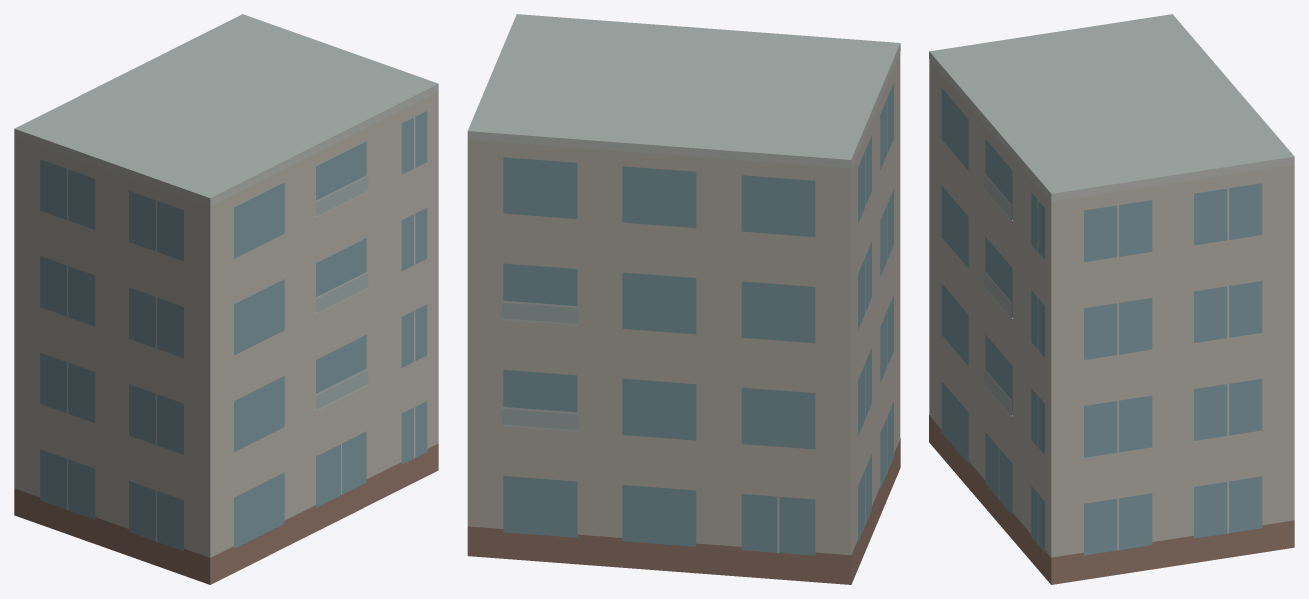
Rendered from residential-af7c3b1c-fa95-405c-bc4c-32a70b7470c2.glb.
The picture shows the model from 3 angles, left to right: view 1: azimuth 30°, elevation 25°; view 2: azimuth 150°, elevation 25°; view 3: azimuth 270°, elevation 25°; orthographic projection. The views are drawn at different scales.
Visible parts, largest first — view 1: residential-af7c3b1c-fa95-405c-bc4c-32a70b7470c2.tmp; view 2: residential-af7c3b1c-fa95-405c-bc4c-32a70b7470c2.tmp; view 3: residential-af7c3b1c-fa95-405c-bc4c-32a70b7470c2.tmp.
Part boxes in pixels (<box>): residential-af7c3b1c-fa95-405c-bc4c-32a70b7470c2.tmp: <box>14,14,438,584</box>; residential-af7c3b1c-fa95-405c-bc4c-32a70b7470c2.tmp: <box>467,14,900,584</box>; residential-af7c3b1c-fa95-405c-bc4c-32a70b7470c2.tmp: <box>929,14,1294,584</box>.
Bounding box in the file's own units: 12.04 × 12.2 × 10.34.
